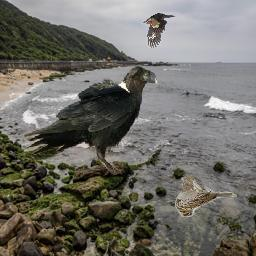Crow: (22, 64, 158, 177)
Sparrow: (175, 177, 237, 217)
Woodpecker: (141, 14, 175, 49)
